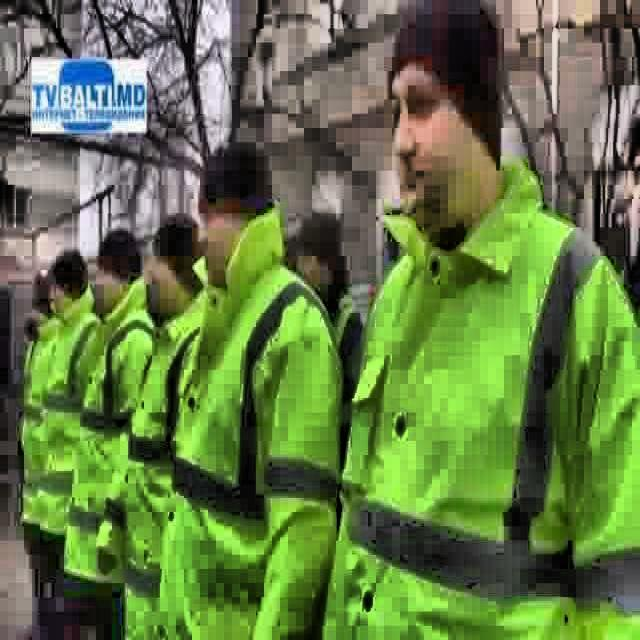safety_jacket: (320, 151, 640, 640), (154, 205, 345, 640), (61, 272, 158, 588), (127, 288, 213, 640), (38, 287, 98, 540), (19, 316, 62, 528)
